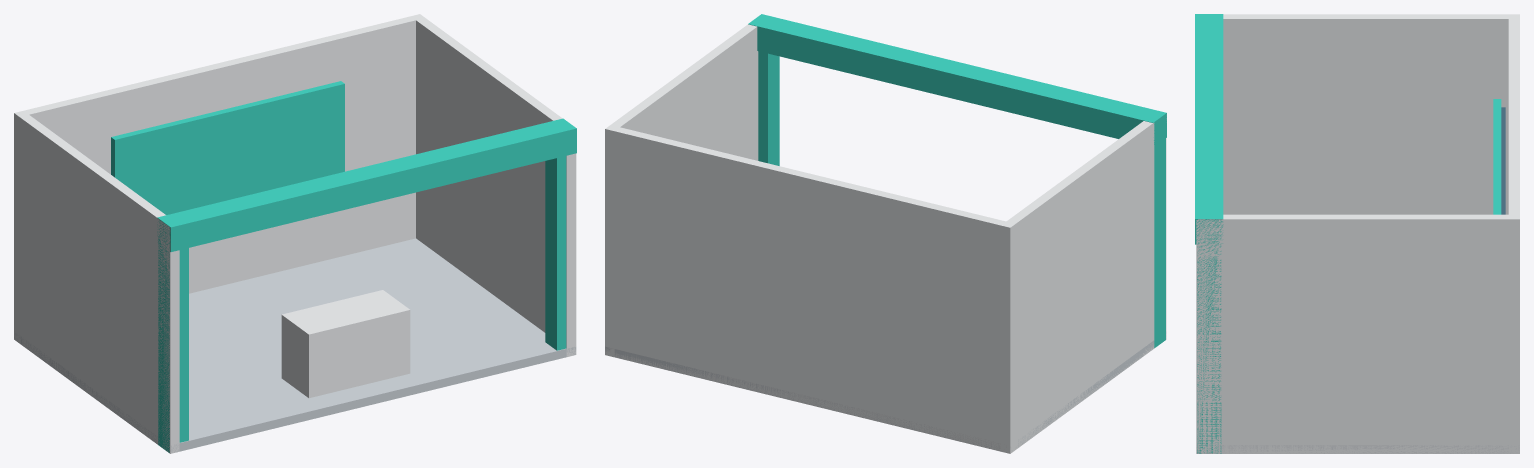
3 renders of one model, left to right at view 1: azimuth 30°, elevation 25°; view 2: azimuth 150°, elevation 25°; view 3: azimuth 270°, elevation 25°, orthographic. The views are drawn at different scales.
Visible parts, largest first — view 1: Exhibition Booth Concept; view 2: Exhibition Booth Concept; view 3: Exhibition Booth Concept.
Boxes of the visible parts, x1,y1,x2,y2 form: Exhibition Booth Concept: (14,14,576,453); Exhibition Booth Concept: (605,14,1166,453); Exhibition Booth Concept: (1195,14,1519,453).
Bounding box in the file's own units: 6 × 3.2 × 4.02.
